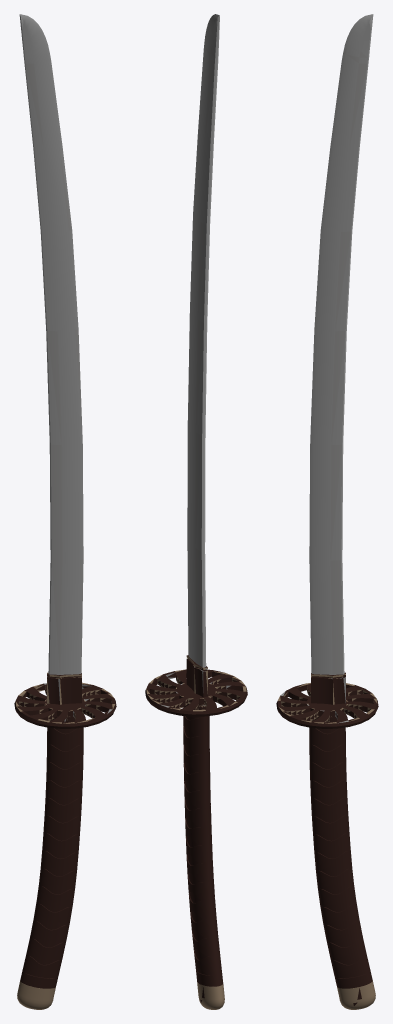
3 views of the same model, side by side, from view 1: azimuth 90°, elevation 25°; view 2: azimuth 210°, elevation 25°; view 3: azimuth 270°, elevation 25° (orthographic).
Visible parts, largest first — view 1: antique_katana_01; view 2: antique_katana_01; view 3: antique_katana_01.
Part boxes in pixels (<box>): antique_katana_01: <box>14,14,116,1009</box>; antique_katana_01: <box>145,14,247,1009</box>; antique_katana_01: <box>276,14,378,1009</box>.
Bounding box in the file's own units: 0.0931 × 1 × 0.0931.
